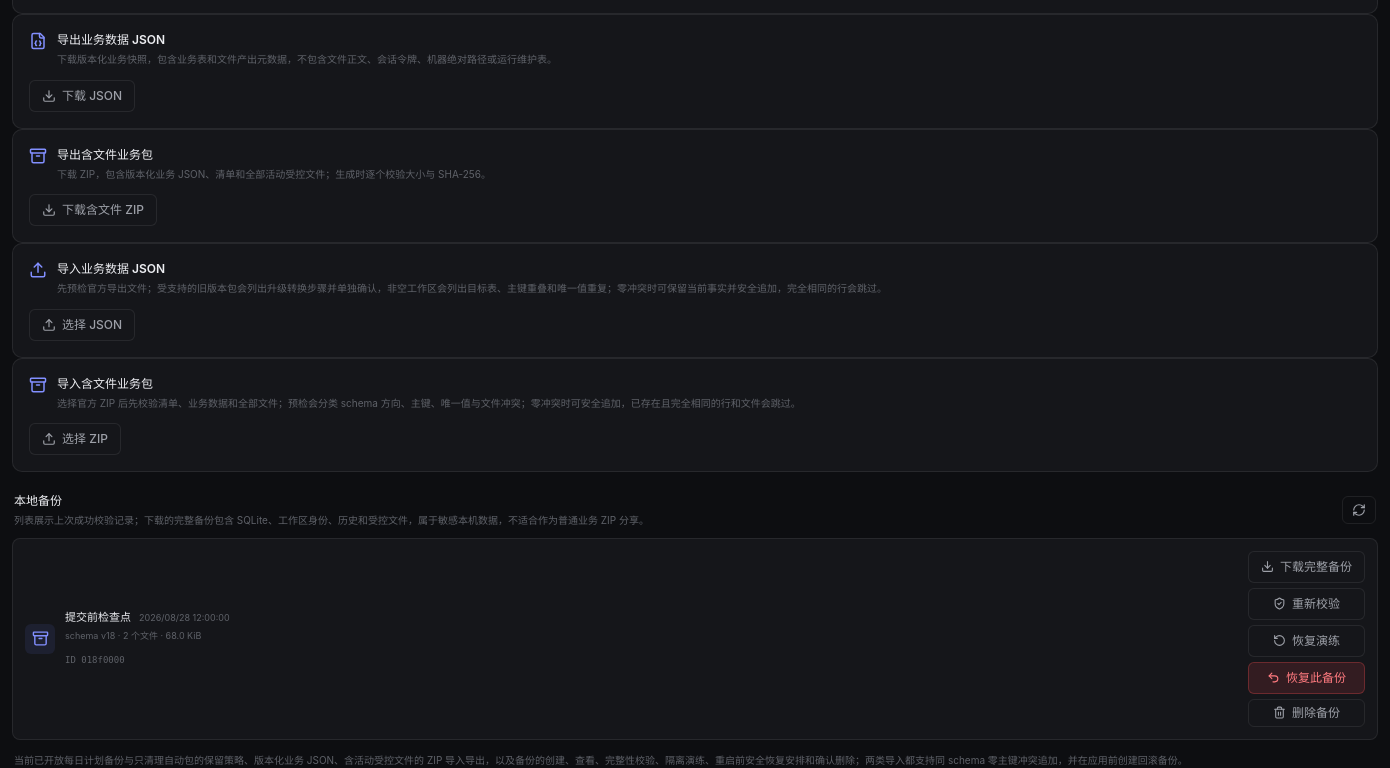
Test case: BackupSettings › downloads a complete backup archive and revokes its object URL
(page scrolled)
expect the text "完整备份包含 SQLite、工作区身份、历史和受控文件" is shown: met, box [14,514,649,526]
Click the button with aria-label "下载完整备份 018f0000": x=1306, y=567 [1248,551,1365,583]
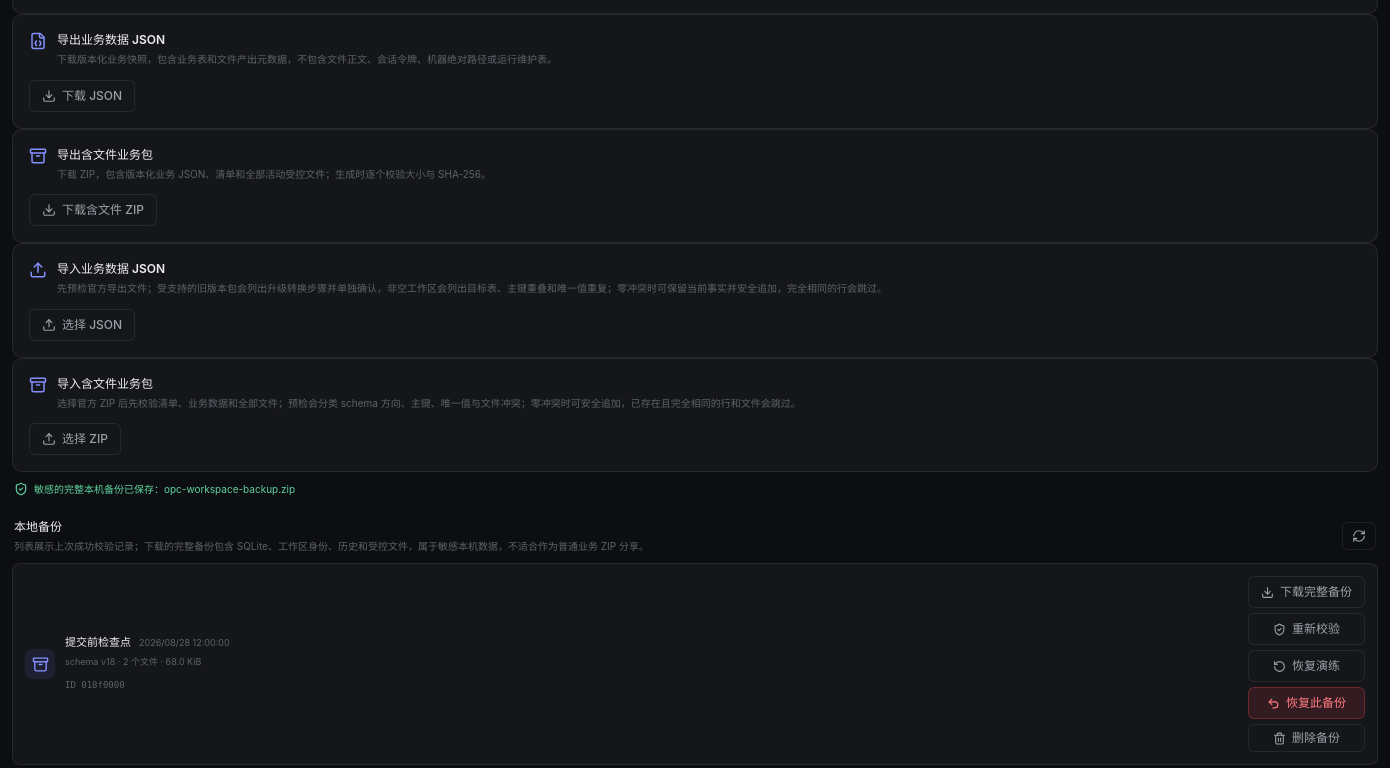
expect the text "敏感的完整本机备份已保存：opc-workspace-backup.zip" is shown: met, box [14,482,295,496]
